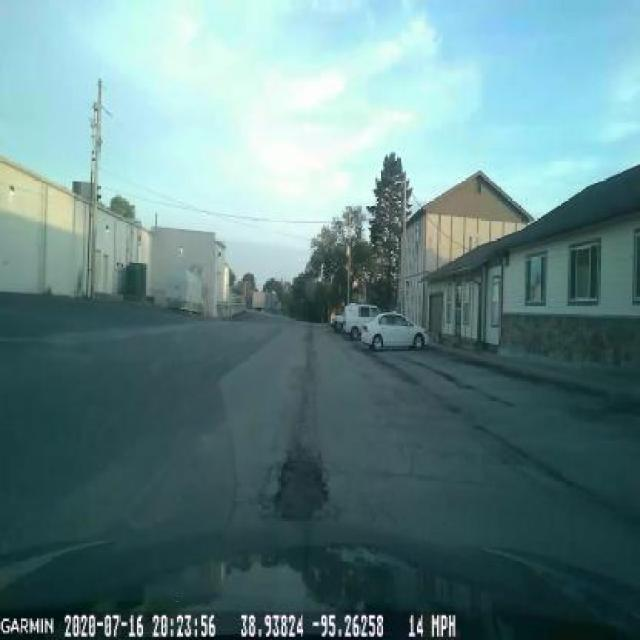Pothole: (254, 447, 349, 525)
